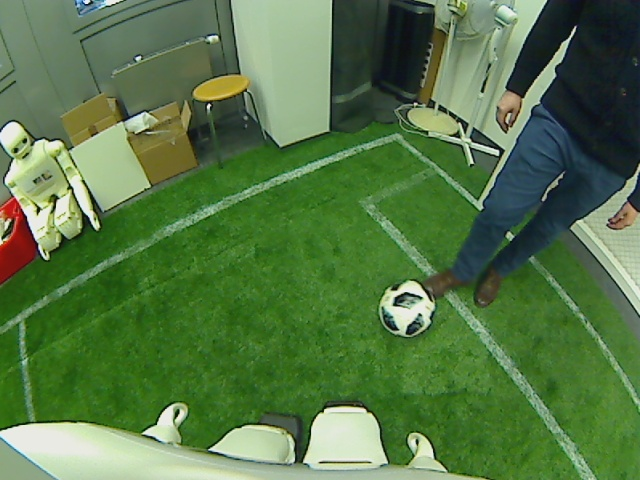ball: (377, 278, 437, 338)
